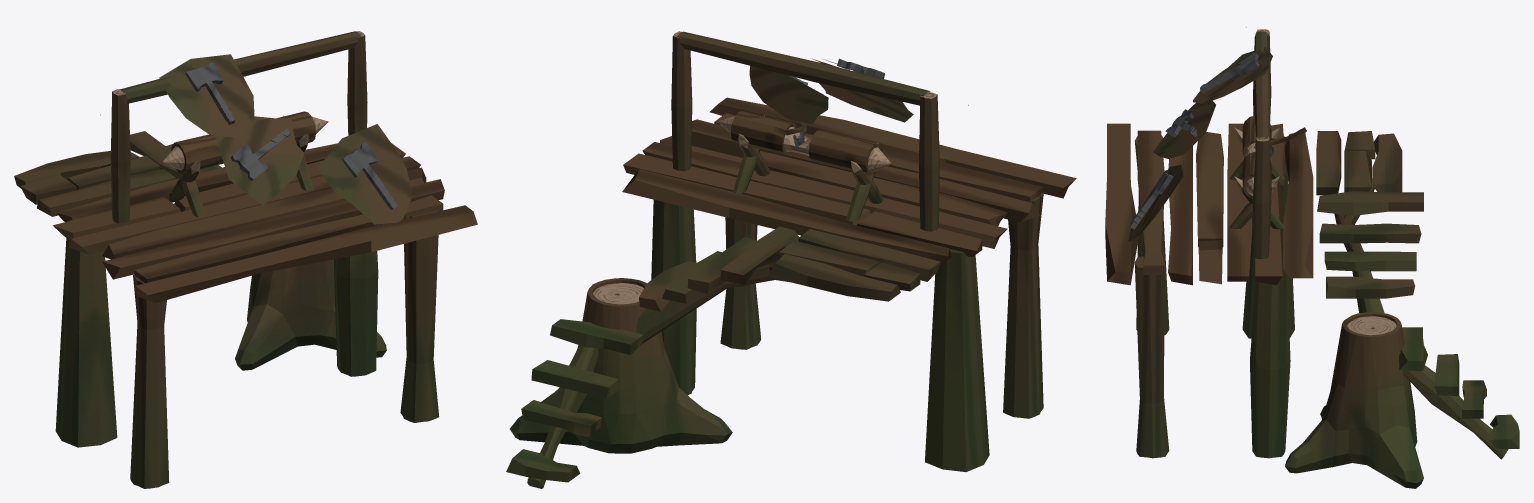
The model's file is Resources_LumberCamp (1).fbx.
The picture shows the model from 3 angles, left to right: view 1: azimuth 30°, elevation 25°; view 2: azimuth 150°, elevation 25°; view 3: azimuth 270°, elevation 25°; orthographic projection. The views are drawn at different scales.
Visible parts, largest first — view 1: Cube.001; view 2: Cube.001; view 3: Cube.001.
Boxes of the visible parts, bbox=[...] form: Cube.001: bbox=[14, 31, 477, 488]; Cube.001: bbox=[506, 31, 1076, 488]; Cube.001: bbox=[1105, 27, 1519, 488].
Bounding box in the file's own units: 573 × 536 × 597.
